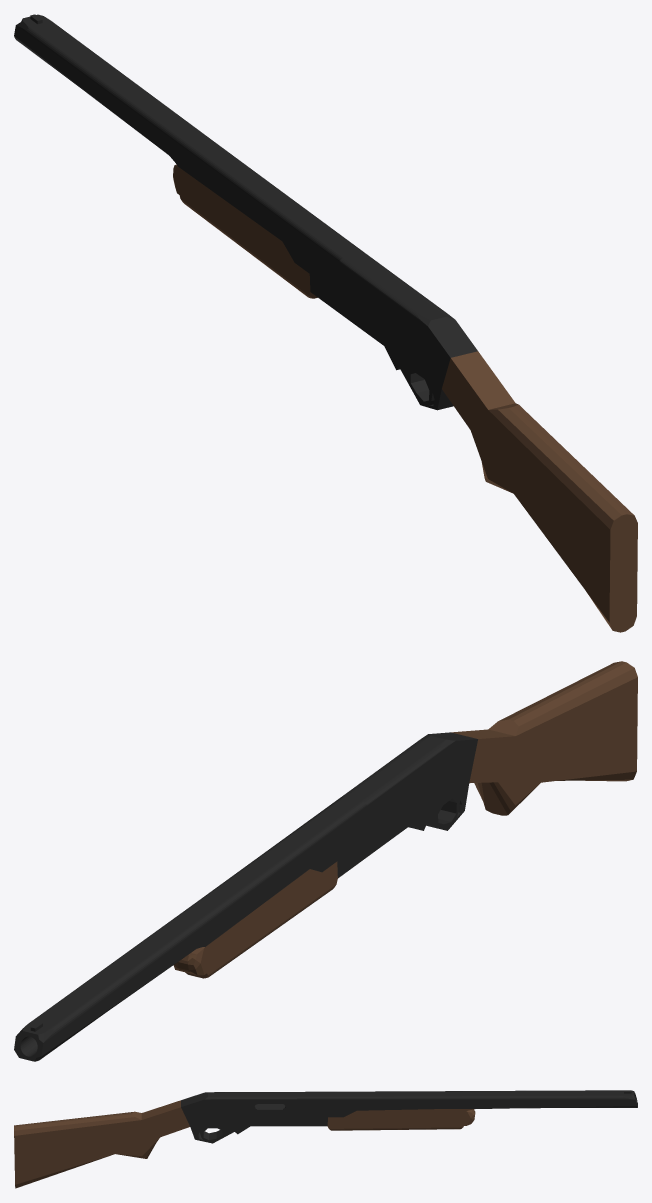
Rendered from Remington.fbx.
3 views of the same model, one above another, from view 1: azimuth 30°, elevation 25°; view 2: azimuth 150°, elevation 25°; view 3: azimuth 270°, elevation 25° (orthographic). The views are drawn at different scales.
Parts seen in each view (by area): view 1: Remington; view 2: Remington; view 3: Remington.
Part boxes in pixels (x1,y1,x2,y2): Remington: (14, 14, 637, 632); Remington: (14, 661, 637, 1061); Remington: (14, 1090, 637, 1188).
Bounding box in the file's own units: 19.14 × 123 × 720.
